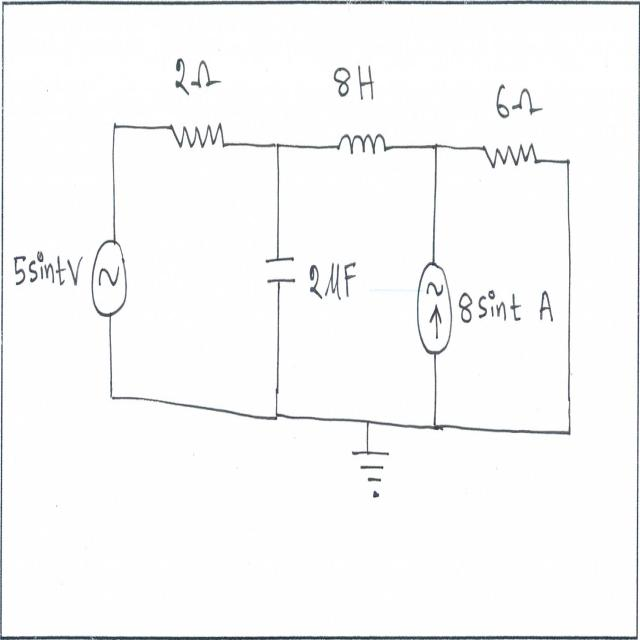ac_current: (86, 233, 131, 322)
capacitor: (264, 247, 297, 294)
current_source: (413, 254, 454, 362)
ground: (344, 439, 394, 508)
inductor: (334, 124, 391, 167)
resistor: (167, 107, 231, 161), (476, 134, 540, 178)
